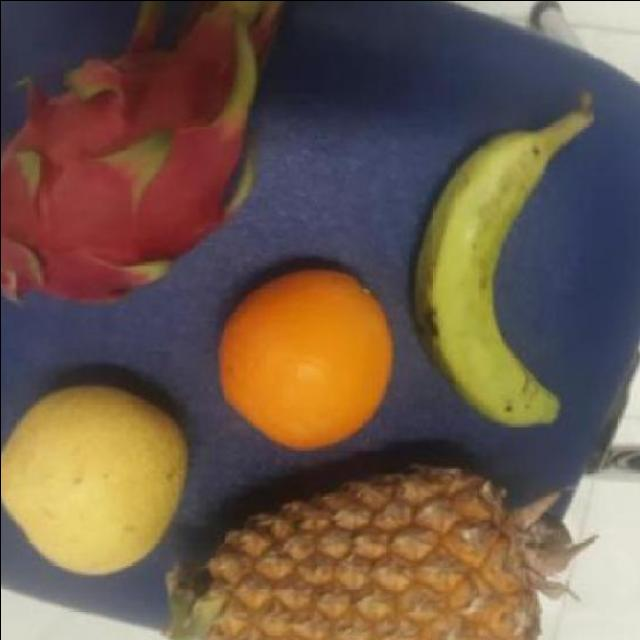banana: (406, 124, 570, 418)
dragon fruit: (0, 60, 254, 299)
guava: (0, 384, 191, 570)
pineapple: (177, 454, 542, 640)
